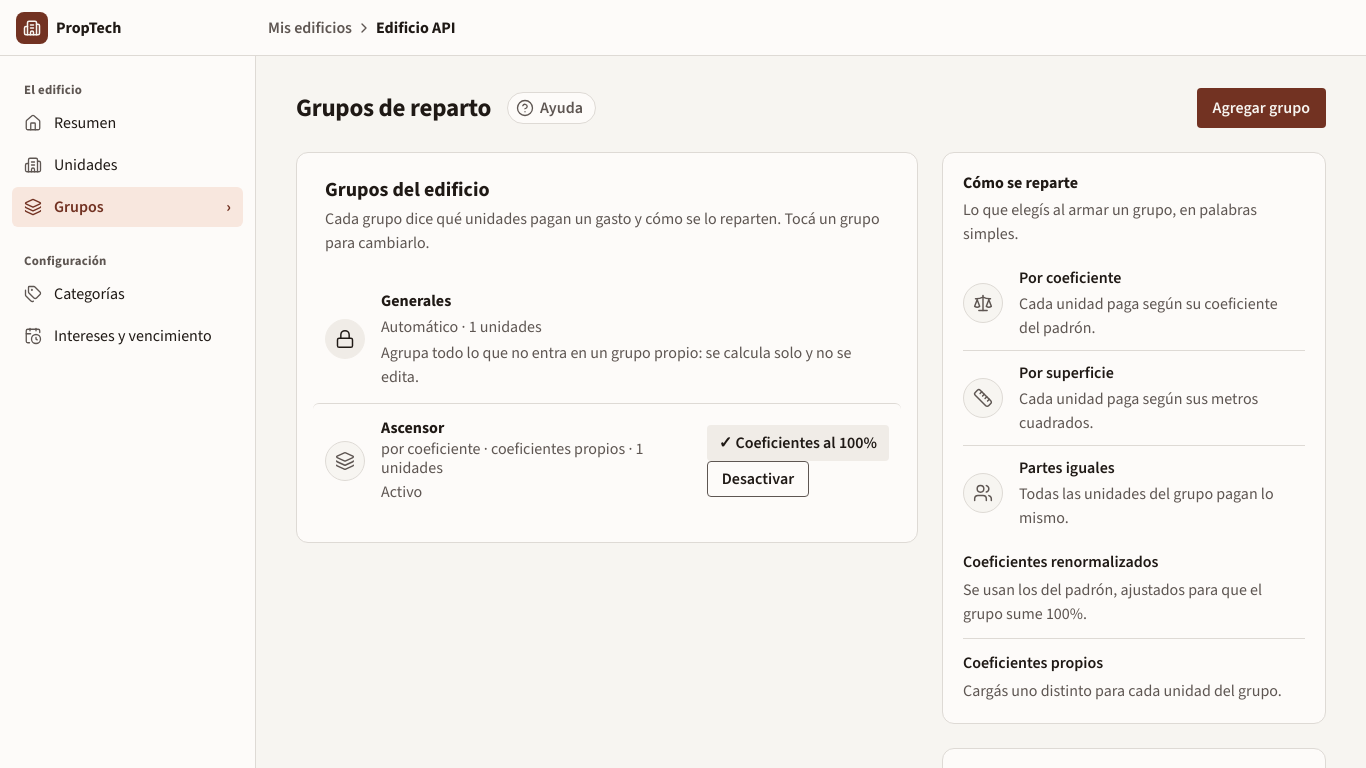
it: PantallaGrupos › cambiar el modo en edición avisa que se reescriben los coeficientes
The image size is (1366, 768).
Click the button "Ascensor por coeficiente · coeficientes propios · 1 unidades".
click(536, 448)  # box [381,418,691,478]
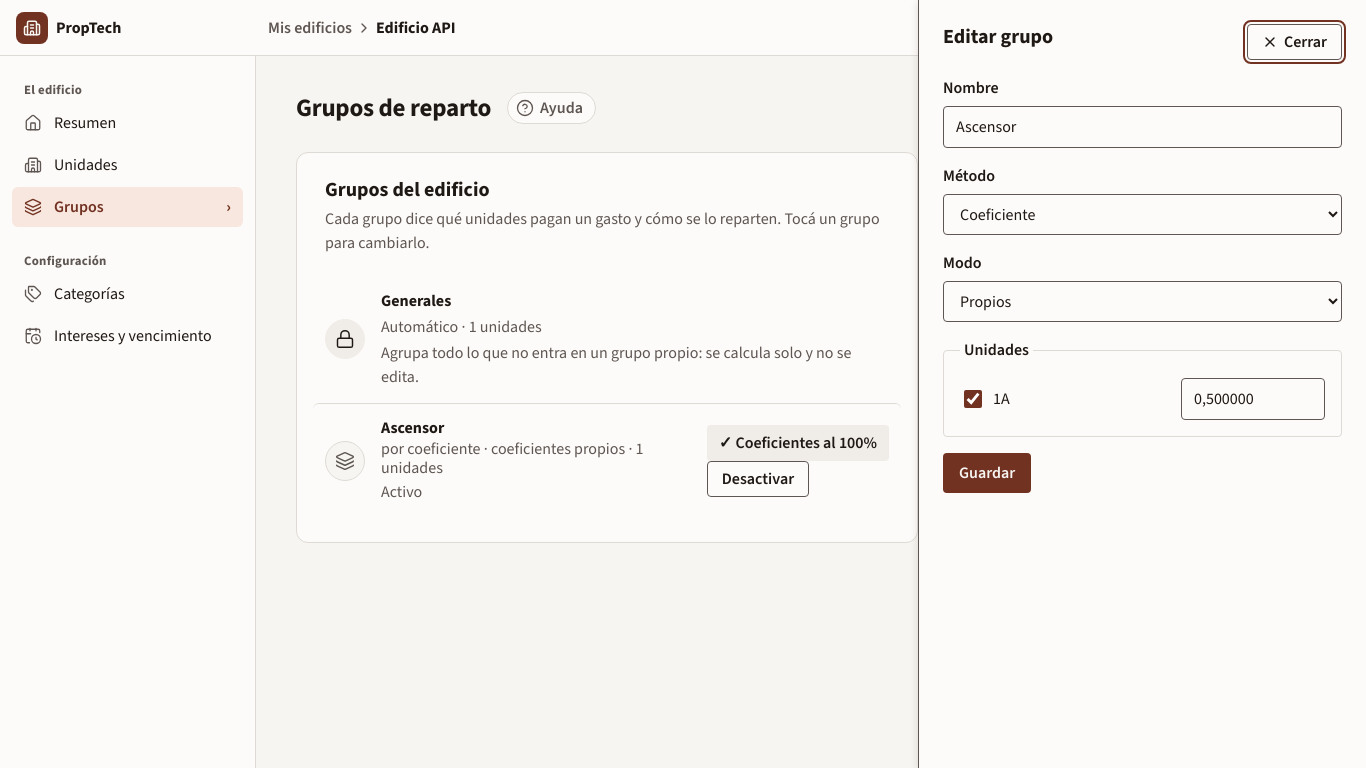
Select "Renormalizado" in the dropdown labelled "Modo" at (1142, 302), box [943,281,1342,322]
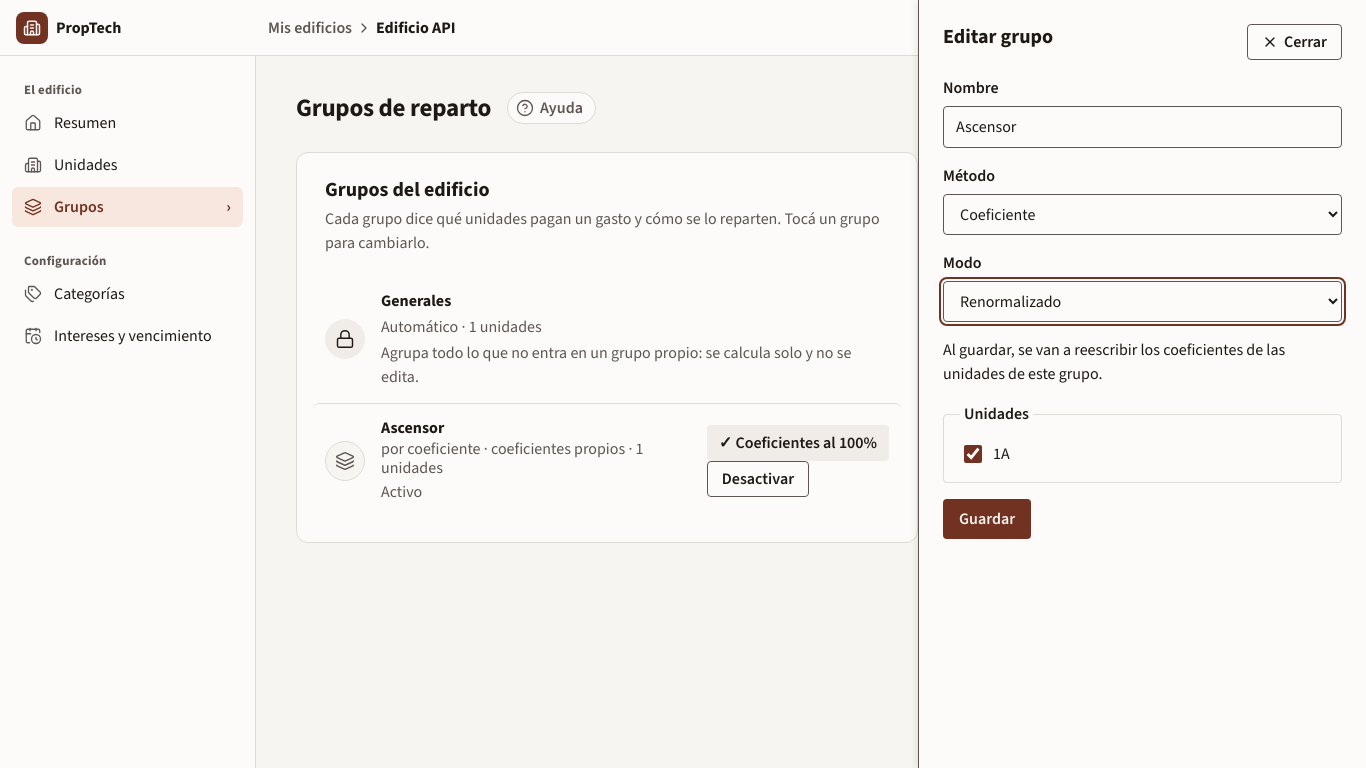
Expected: the text "se van a reescribir los coeficientes" is shown, [943,339,1285,384]
